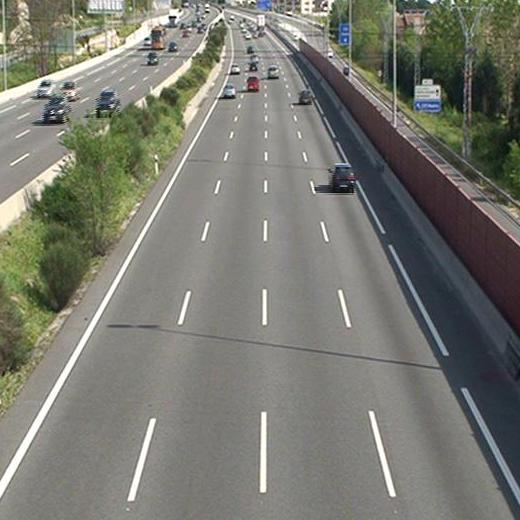car: (328, 163, 355, 190), (300, 90, 313, 104), (223, 84, 235, 98), (268, 66, 279, 78), (249, 62, 259, 73), (230, 63, 239, 74), (250, 53, 258, 62)
van: (247, 75, 259, 92)
